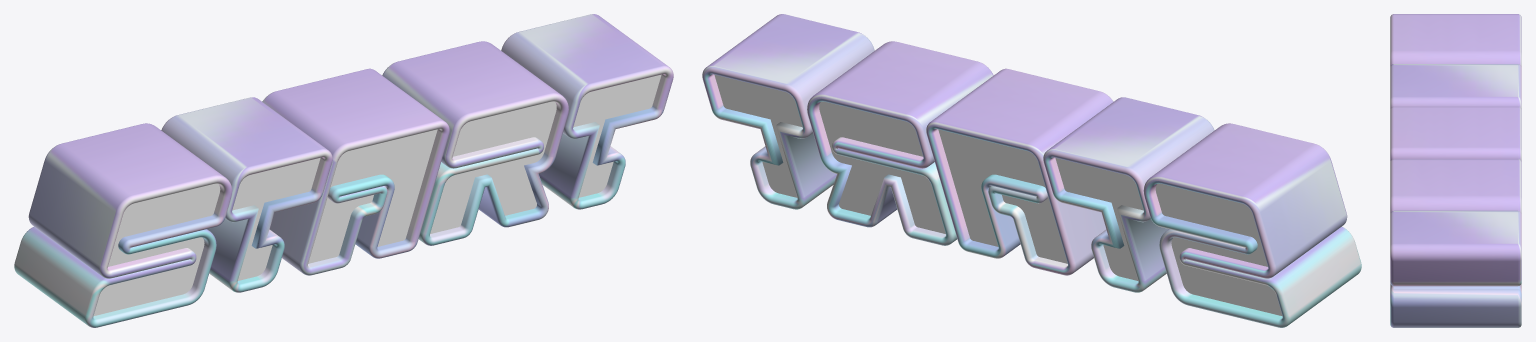
File: start buttonz.fbx
3 views of the same model, side by side, from view 1: azimuth 30°, elevation 25°; view 2: azimuth 150°, elevation 25°; view 3: azimuth 270°, elevation 25° (orthographic). The views are drawn at different scales.
Visible parts, largest first — view 1: Text.001, Text; view 2: Text.001, Text; view 3: Text.001.
Part boxes in pixels (bbox=[...]): Text.001: bbox=[14, 14, 673, 327]; Text: bbox=[93, 74, 661, 315]; Text.001: bbox=[702, 14, 1361, 327]; Text: bbox=[714, 74, 1282, 315]; Text.001: bbox=[1390, 14, 1521, 327].
Size of the model in its own units: 456 by 91.38 by 100.
